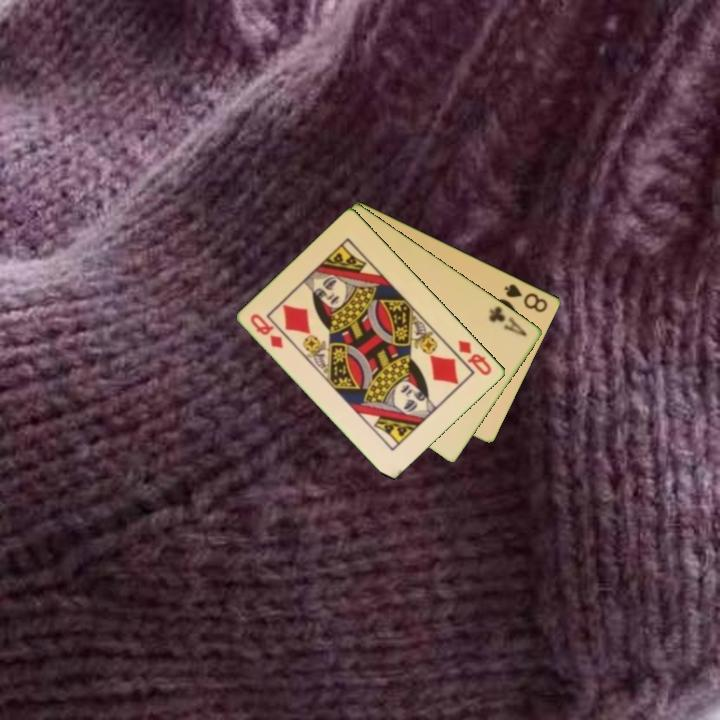8s: (501, 280, 551, 315)
Ac: (485, 302, 531, 339)
Qd: (455, 336, 495, 379), (247, 310, 287, 351)
